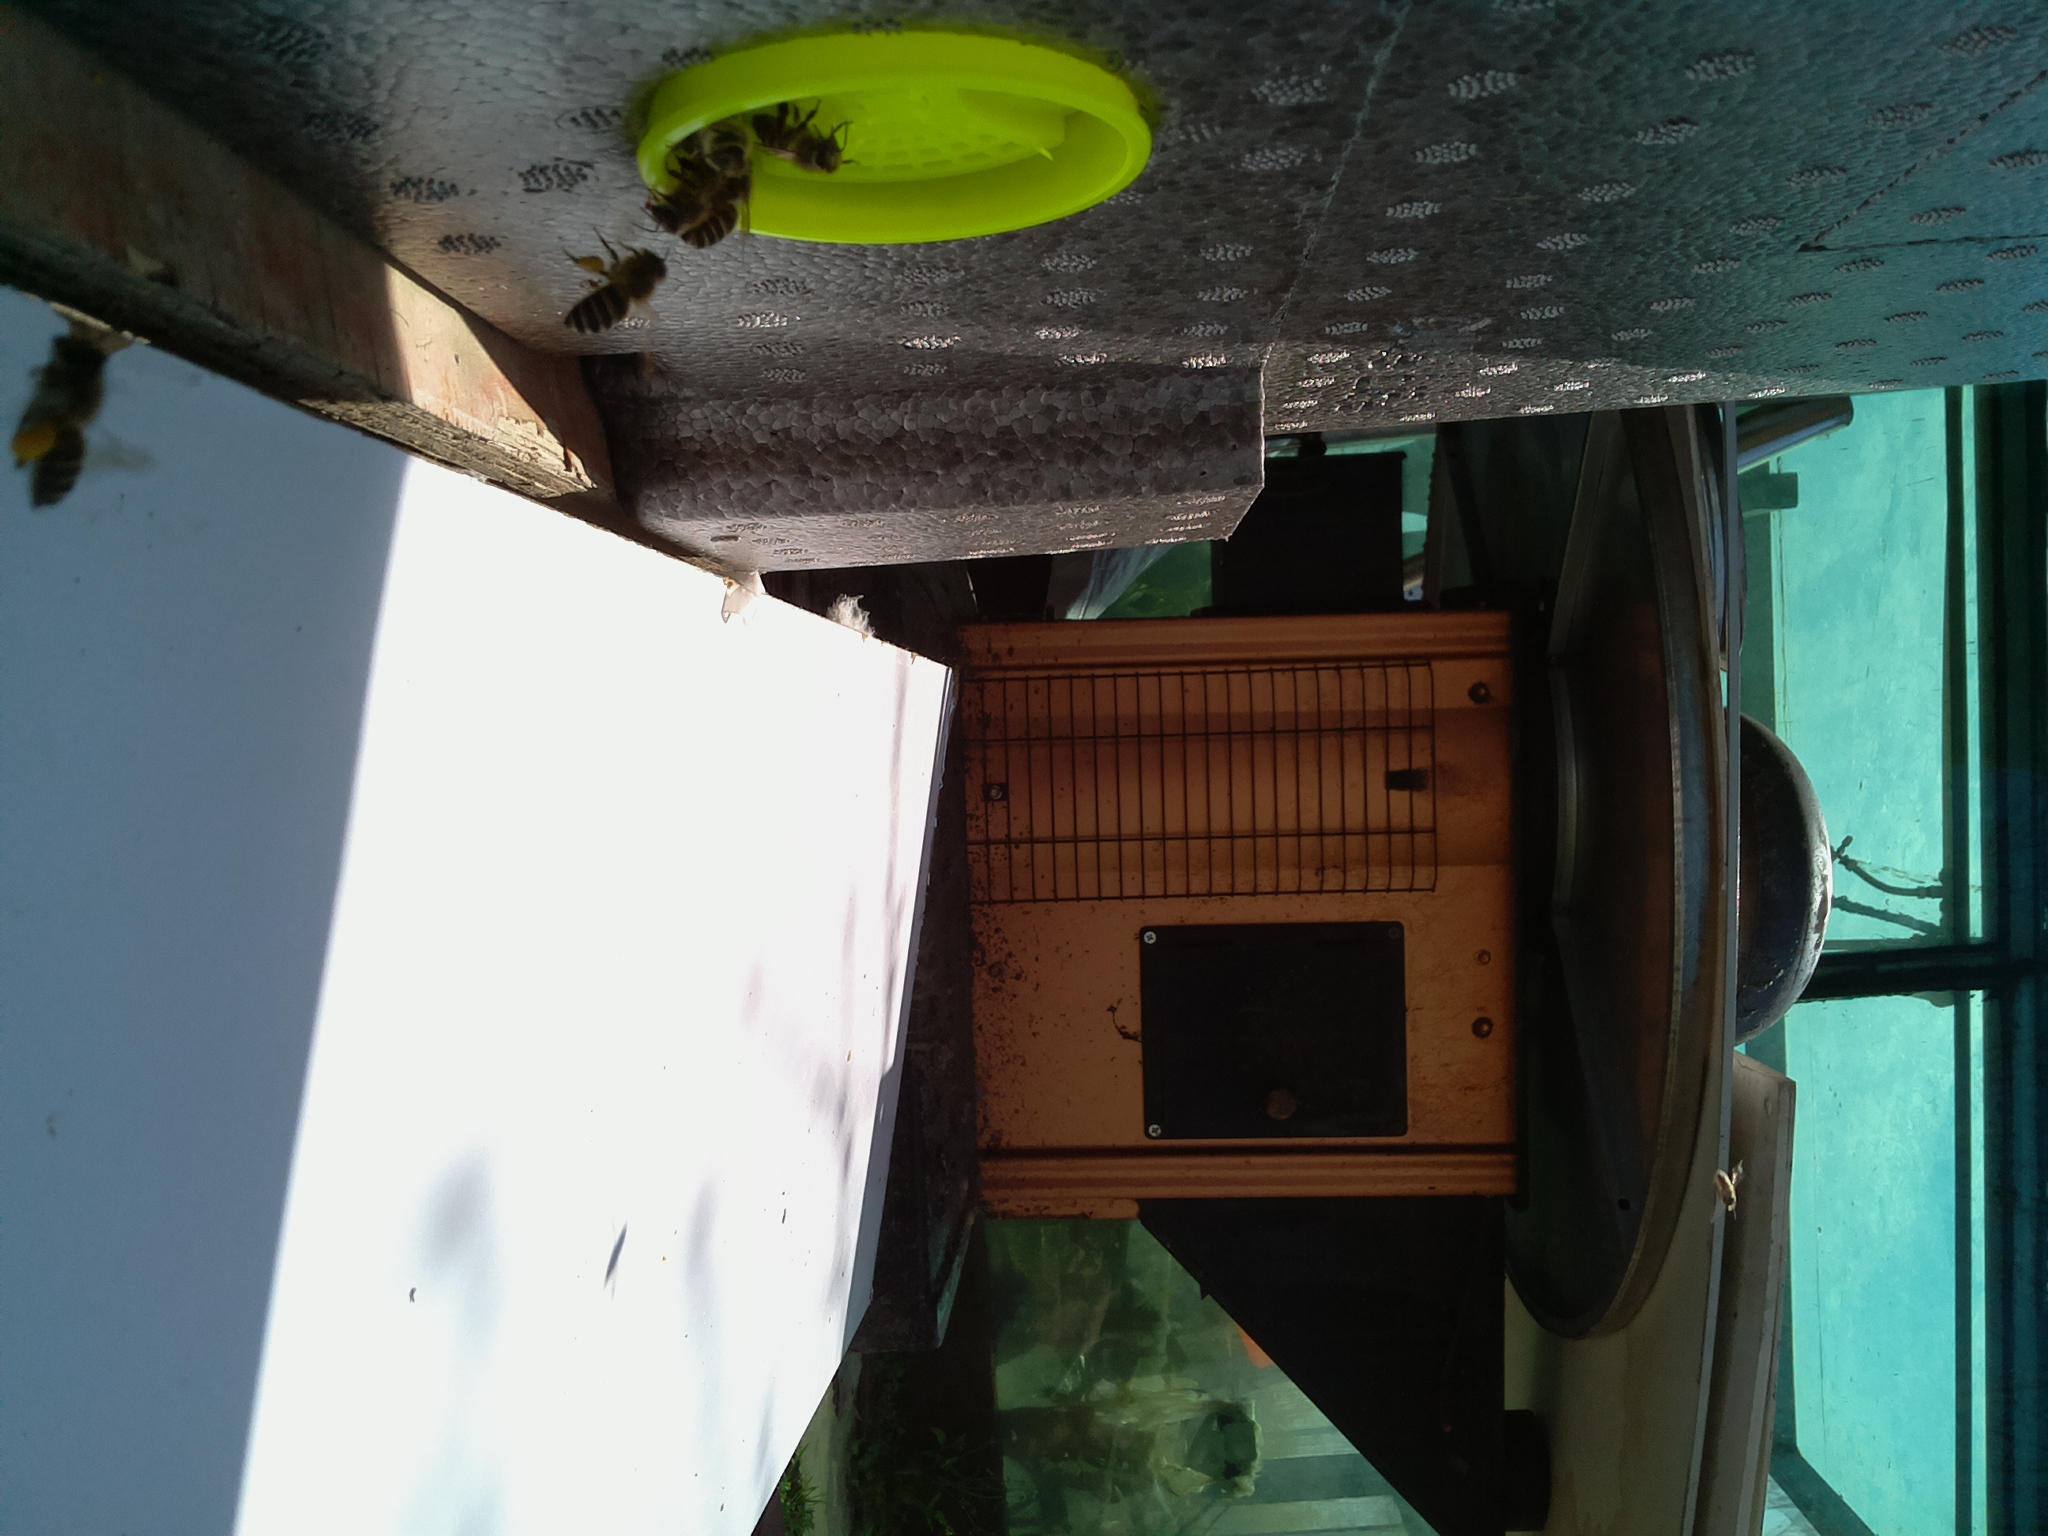bee: (564, 242, 668, 336)
